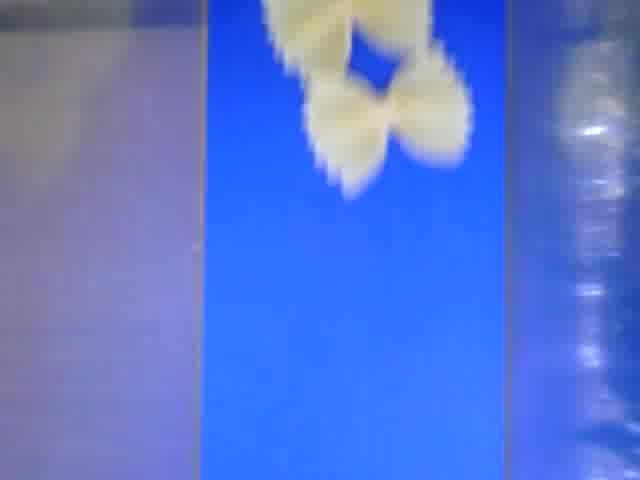farfalle: (306, 42, 471, 198), (265, 1, 429, 90)
